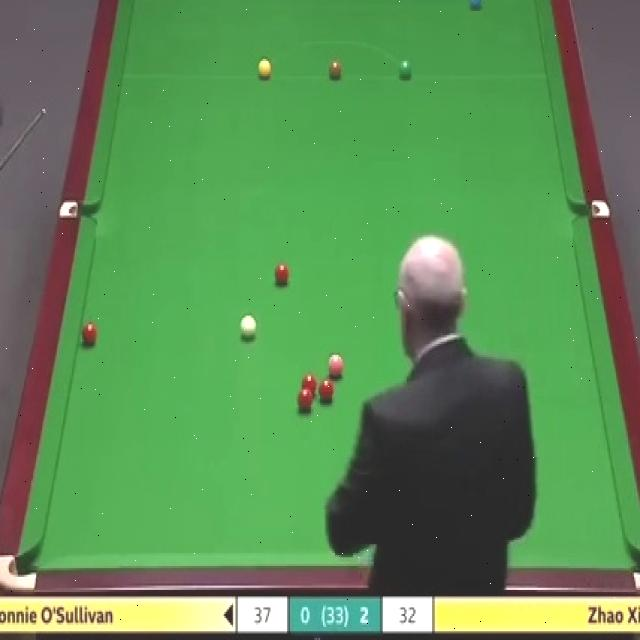blue-ball: (467, 0, 483, 11)
brown-ball: (328, 60, 343, 82)
green-ball: (398, 59, 413, 82)
pink-ball: (324, 353, 344, 380)
red-ball: (296, 388, 314, 414), (80, 321, 97, 348), (318, 377, 336, 402), (274, 261, 291, 287), (300, 373, 318, 396)
white-ball: (238, 311, 257, 342)
yellow-ball: (258, 58, 272, 81)
